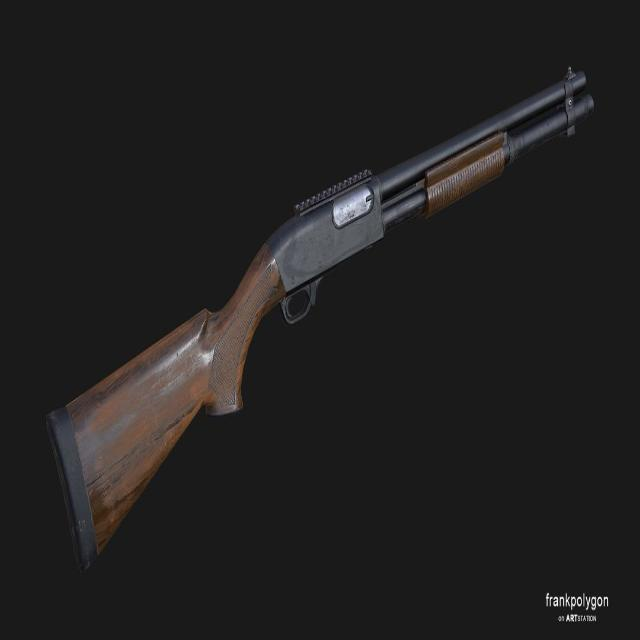ShotGun: (44, 69, 596, 577)
